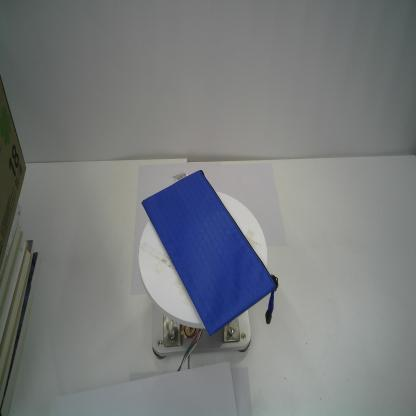Stationery: (141, 169, 279, 337)
